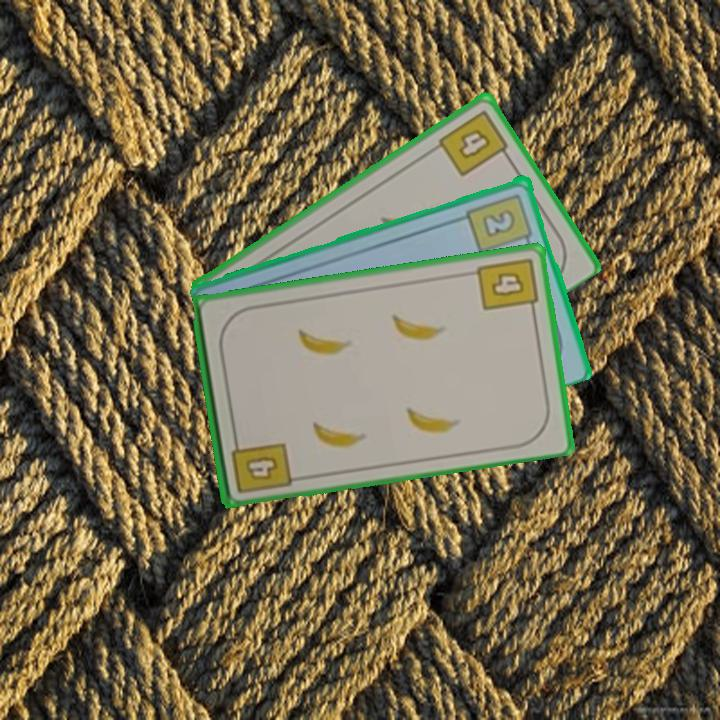2b: (463, 189, 536, 255)
4b: (434, 106, 514, 180), (227, 431, 294, 496), (473, 253, 540, 317)
